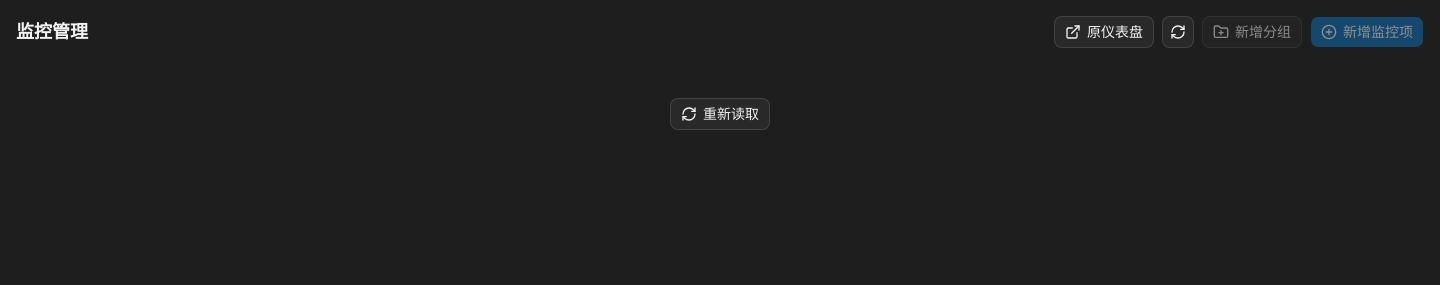
it: 监控页首次 monitors 读取失败提供局部重新读取入口，重试成功后显示列表
Click the button "重新读取" at (720, 114), box [670,98,770,130]
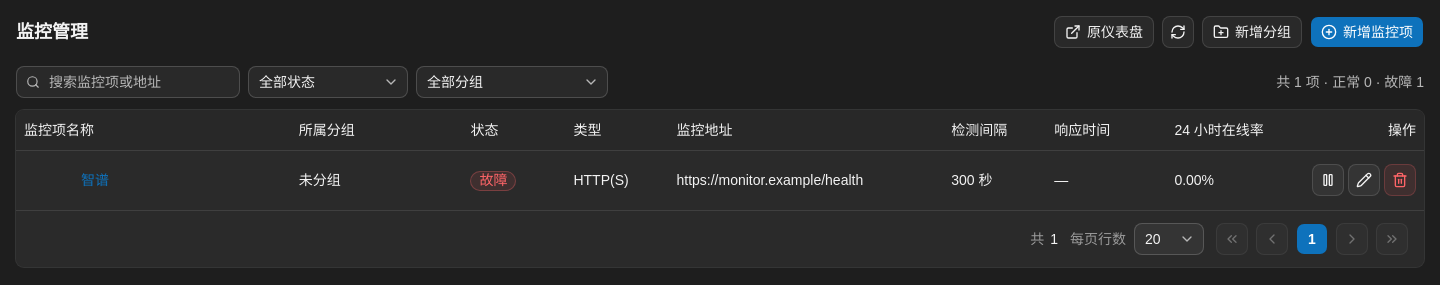
Check: the cell "智谱" is shown, box [16,150,291,210]
Check: the button "重新读取" is gone
